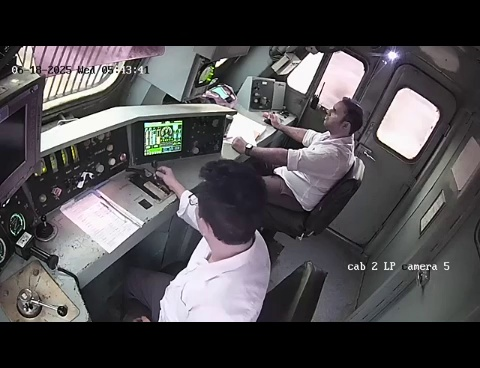brake_released: (2, 258, 90, 320)
horn_inactive: (25, 207, 70, 246)
